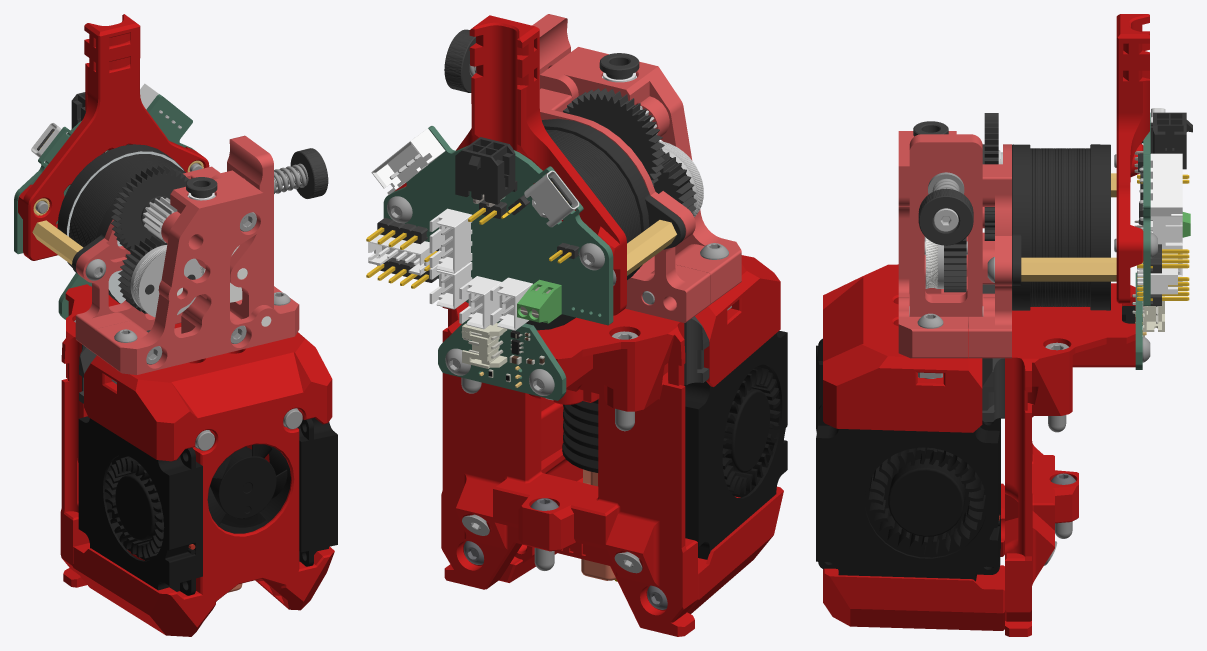
3 views of the same model, side by side, from view 1: azimuth 30°, elevation 25°; view 2: azimuth 150°, elevation 25°; view 3: azimuth 270°, elevation 25° (orthographic). The views are drawn at different scales.
Parts seen in each view (by area): view 1: Yavoth Cowl, SOLID, 4010 Blower Fan, EBB Mount, NEMA14_10t^sherpa_mini_a3_r17, Yavoth Backplate, SOLID002, 4010 Blower Fan (1), 2510 Axial Fan, SOLID001, Reduction Gear, Filament Gear (+7 smaller); view 2: Yavoth Backplate, 4010 Blower Fan, Open CASCADE STEP translator 6.8 1.1.1, Yavoth Cowl, EBB Mount, SOLID, NEMA14_10t^sherpa_mini_a3_r17, SOLID001, Reduction Gear, OptoTap PCB014, SOLID.step (1), XH2.54-3P (+16 smaller); view 3: Yavoth Cowl, 4010 Blower Fan (1), Yavoth Backplate, NEMA14_10t^sherpa_mini_a3_r17, SOLID002, EBB Mount, SOLID001, SOLID, EBB36 Standoffs, XH2.54-4P, Tensioner Screw021, Filament Gear (2) (+8 smaller).
Part boxes in pixels (left/top/right/bottom): Yavoth Cowl: left=73, top=323, right=334, bottom=636; SOLID: left=95, top=170, right=299, bottom=374; 4010 Blower Fan: left=78, top=416, right=202, bottom=595; EBB Mount: left=18, top=14, right=209, bottom=260; NEMA14_10t^sherpa_mini_a3_r17: left=57, top=144, right=185, bottom=313; Yavoth Backplate: left=60, top=284, right=146, bottom=587; SOLID002: left=227, top=135, right=273, bottom=319; 4010 Blower Fan (1): left=297, top=417, right=337, bottom=566; 2510 Axial Fan: left=207, top=444, right=287, bottom=527; SOLID001: left=75, top=166, right=220, bottom=353; Reduction Gear: left=111, top=165, right=189, bottom=251; Filament Gear: left=118, top=235, right=201, bottom=317; Yavoth Backplate: left=441, top=301, right=697, bottom=636; 4010 Blower Fan: left=684, top=330, right=787, bottom=559; Open CASCADE STEP translator 6.8 1.1.1: left=383, top=126, right=613, bottom=325; Yavoth Cowl: left=499, top=255, right=783, bottom=613; EBB Mount: left=394, top=15, right=626, bottom=315; SOLID: left=540, top=47, right=741, bottom=304; NEMA14_10t^sherpa_mini_a3_r17: left=525, top=118, right=685, bottom=330; SOLID001: left=539, top=88, right=710, bottom=322; Reduction Gear: left=563, top=88, right=665, bottom=185; OptoTap PCB014: left=438, top=319, right=566, bottom=400; SOLID.step (1): left=455, top=137, right=517, bottom=207; XH2.54-3P: left=429, top=208, right=472, bottom=273; Yavoth Cowl: left=823, top=264, right=1004, bottom=630; 4010 Blower Fan (1): left=816, top=404, right=1000, bottom=581; Yavoth Backplate: left=1005, top=283, right=1135, bottom=636; NEMA14_10t^sherpa_mini_a3_r17: left=984, top=144, right=1110, bottom=310; SOLID002: left=909, top=134, right=982, bottom=328; EBB Mount: left=1116, top=14, right=1149, bottom=303; SOLID001: left=968, top=144, right=1011, bottom=358; SOLID: left=898, top=131, right=967, bottom=358; EBB36 Standoffs: left=1021, top=257, right=1116, bottom=281; XH2.54-4P: left=1139, top=153, right=1182, bottom=216; Tensioner Screw021: left=918, top=188, right=973, bottom=245; Filament Gear (2): left=925, top=237, right=966, bottom=292.
Bounding box in the file's own units: 0.0619 × 0.1386 × 0.0828.
